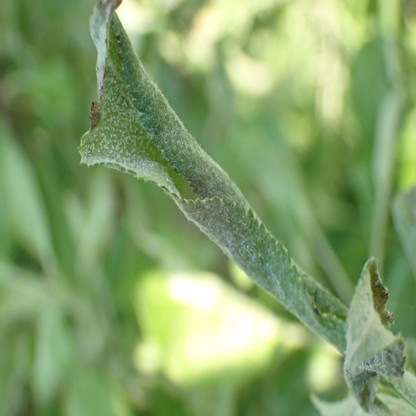powder: (78, 2, 345, 350), (345, 256, 405, 409)
